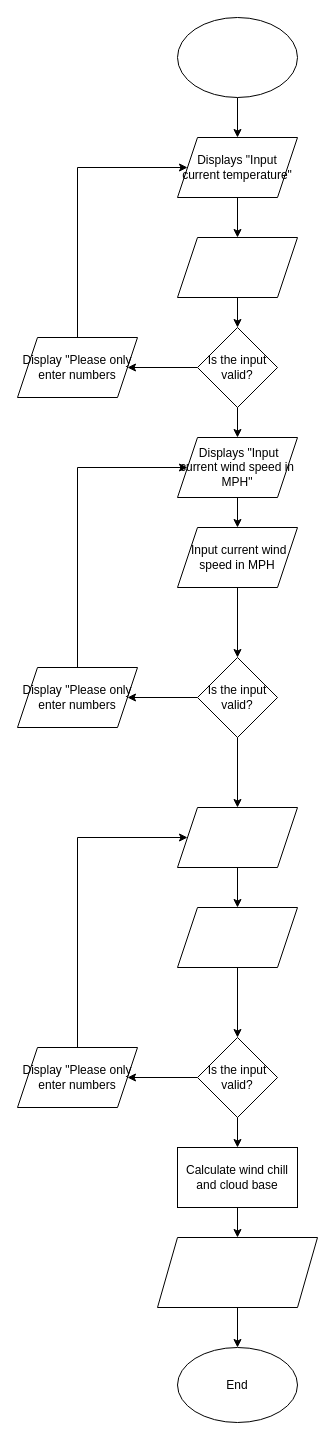
This 335x1440 diagram has some shape labels left out. Each missing label, with the centre of its shape:
Display a chart that shows temp, wind, dew point, wind chill, dew point: the point at 237,1272
Displays "Input current dew point": the point at 237,837
Input current dew point: the point at 237,937
Input temperature: the point at 237,267
Start: the point at 237,57
